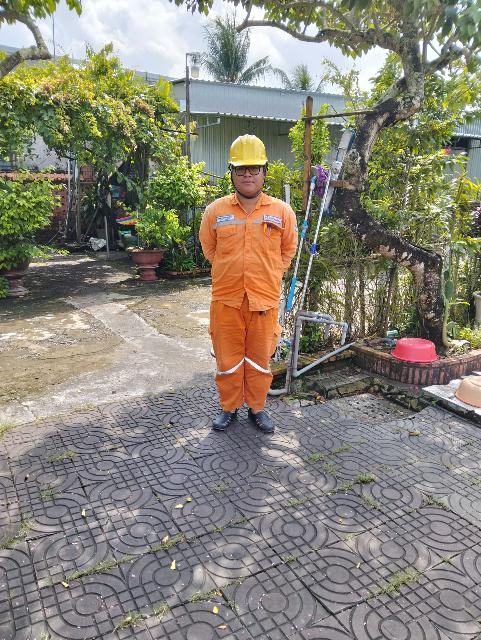helmet: (226, 132, 277, 184)
shoes: (206, 402, 243, 437), (249, 402, 275, 439)
